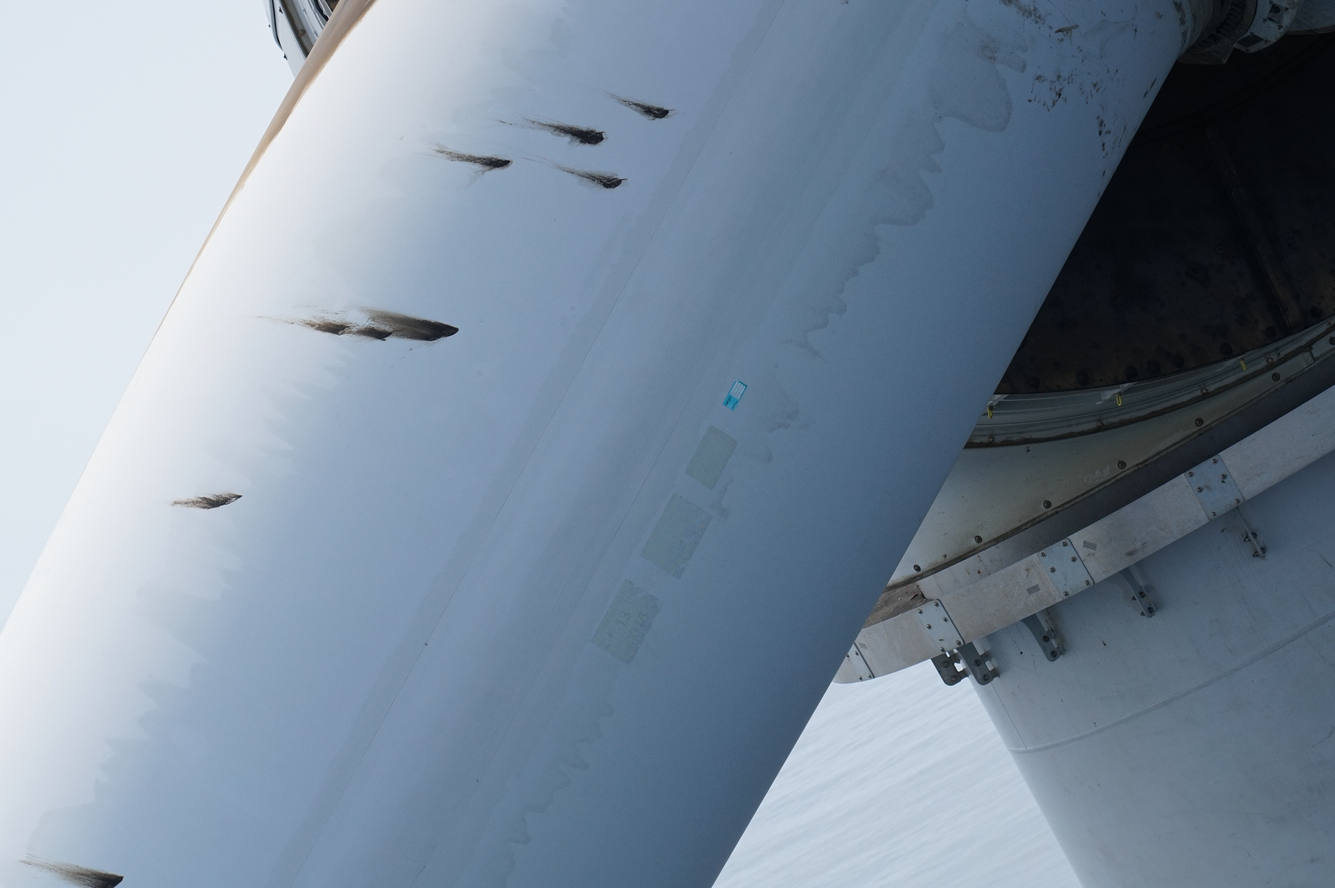Dirt: (272, 305, 464, 344), (19, 850, 129, 888), (428, 146, 517, 177), (524, 122, 611, 150), (558, 164, 627, 194), (613, 96, 676, 125), (168, 491, 249, 511)
